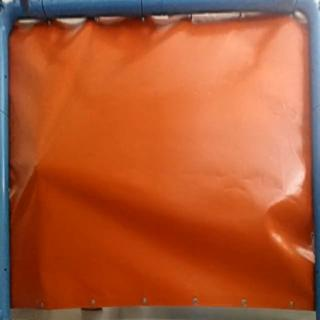Hit-hRxx: (28, 160, 46, 176)
